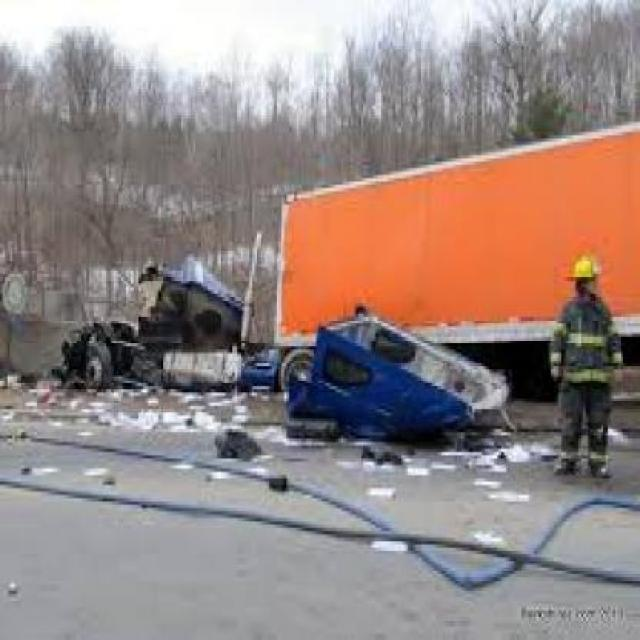accident: (53, 193, 605, 504)
